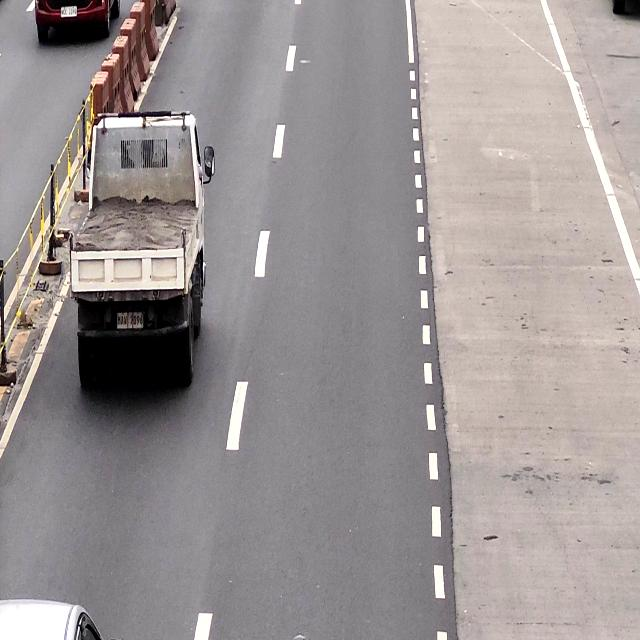Car: (83, 116, 206, 386)
License-Plate: (116, 310, 144, 329)
